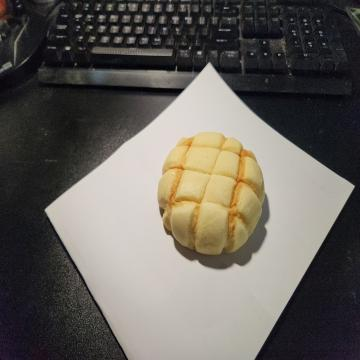melon_bread: (158, 132, 266, 252)
